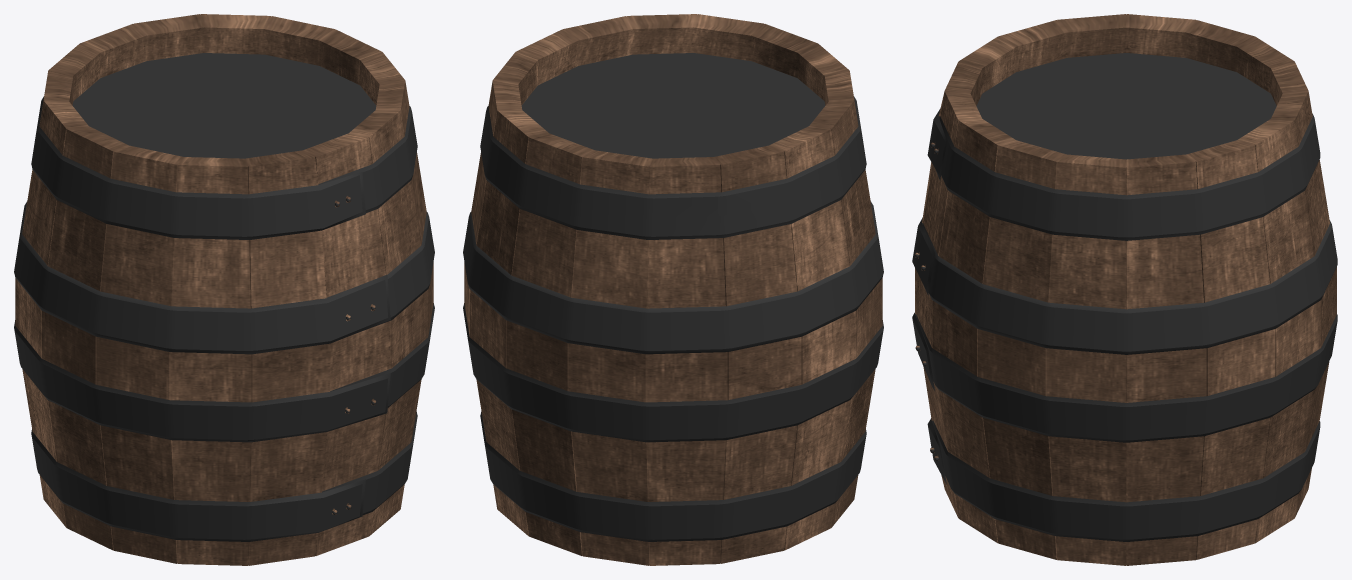
The model's file is barril.fbx.
3 views of the same model, side by side, from view 1: azimuth 30°, elevation 25°; view 2: azimuth 150°, elevation 25°; view 3: azimuth 270°, elevation 25° (orthographic).
Visible parts, largest first — view 1: Barrel_1; view 2: Barrel_1; view 3: Barrel_1.
Boxes of the visible parts, box(x1,y1,x2,y2) form: Barrel_1: box(14, 14, 434, 565); Barrel_1: box(463, 14, 883, 565); Barrel_1: box(912, 14, 1337, 565).
Size of the model in its own units: 0.6586 by 0.685 by 0.6636.
2 materials, 1 textured.
